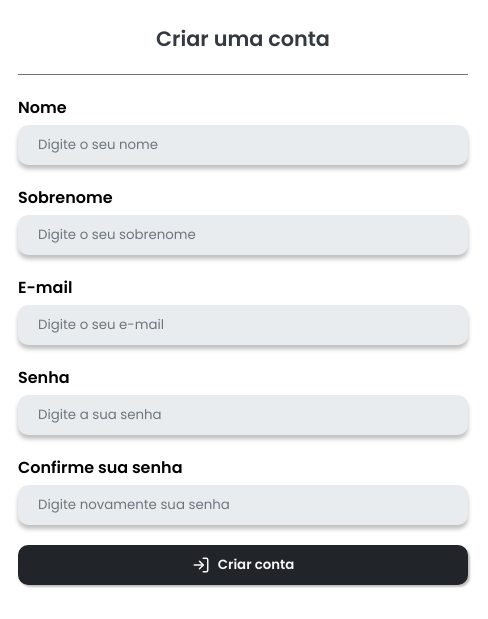
Scenario: Sign Up › should show error if email already exist
Type "lorem" into the field with placeholder "Digite o seu nome".
click(243, 145); type("lorem")  # box [18,125,468,165]
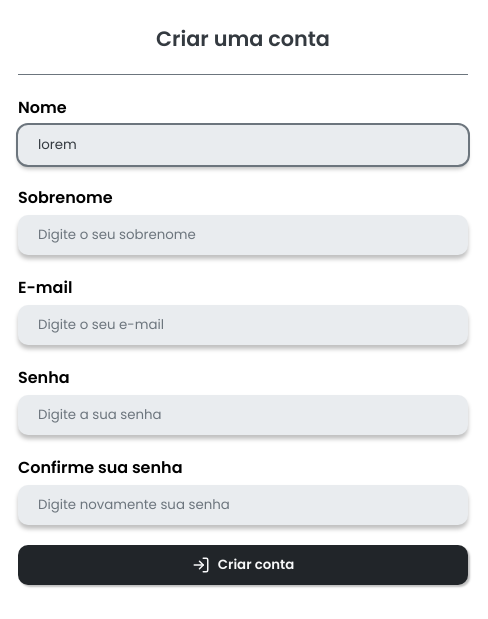
Type "ipsum" into the field with placeholder "Digite o seu sobrenome".
click(243, 235); type("ipsum")  # box [18,215,468,255]
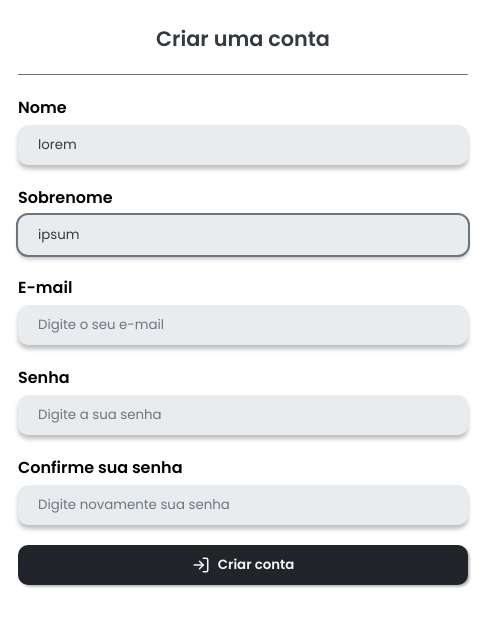
Type "teste@teste.com" into the field with placeholder "Digite o seu e-mail".
click(243, 325); type("teste@teste.com")  # box [18,305,468,345]
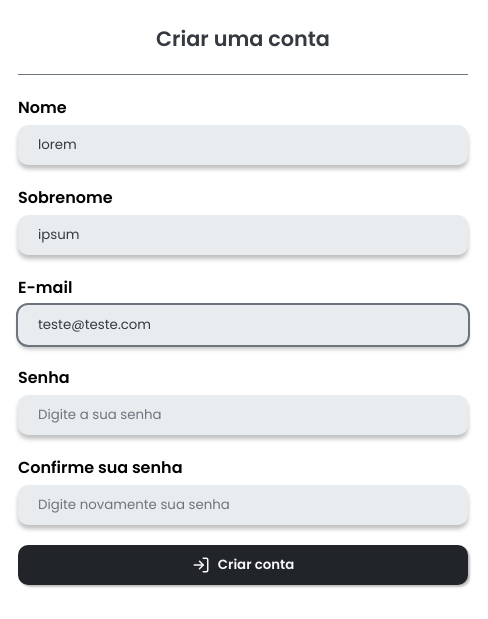
Type "123456" into the password field with placeholder "Digite a sua senha".
click(243, 415); type("123456")  # box [18,395,468,435]
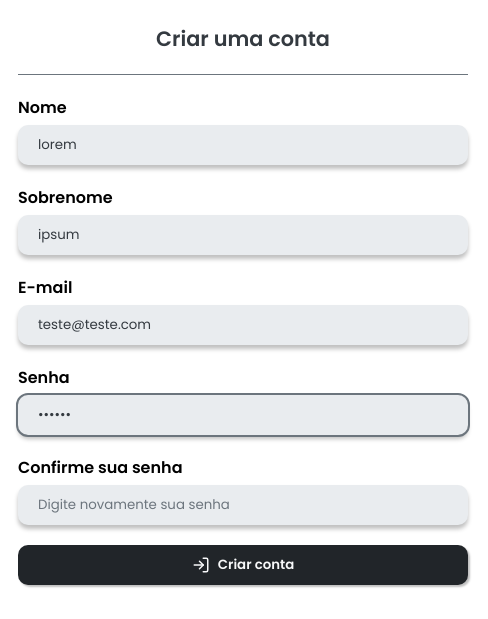
Type "123456" into the password field with placeholder "Digite novamente sua senha".
click(243, 505); type("123456")  # box [18,485,468,525]
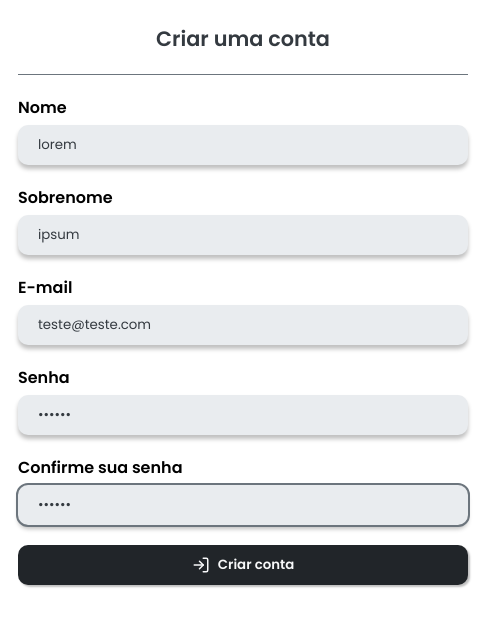
Click the button "Criar conta".
click(243, 565)  # box [18,545,468,585]
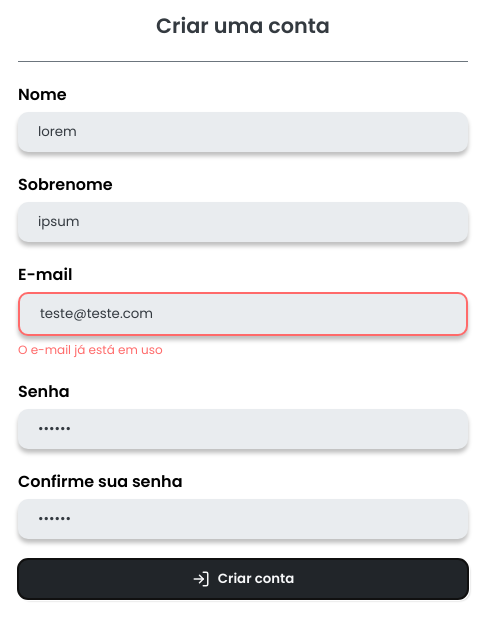
Expected: the text "O e-mail já está em uso" is shown, [18,340,163,358]
